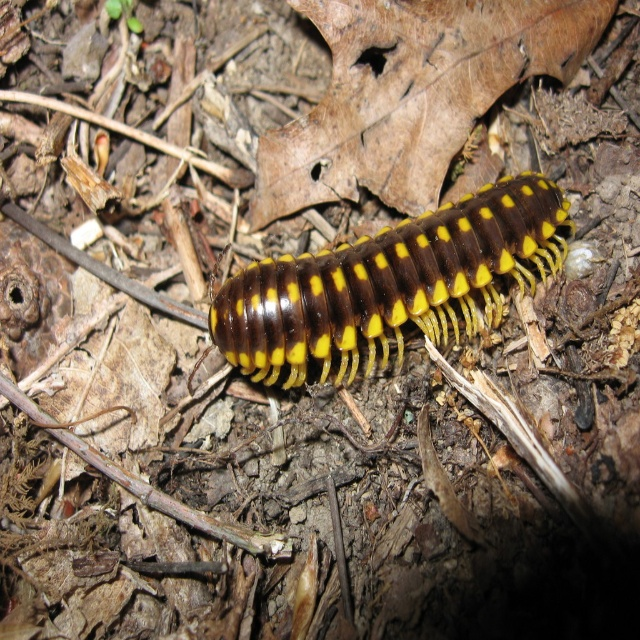Caterpillar: (210, 171, 574, 390)
